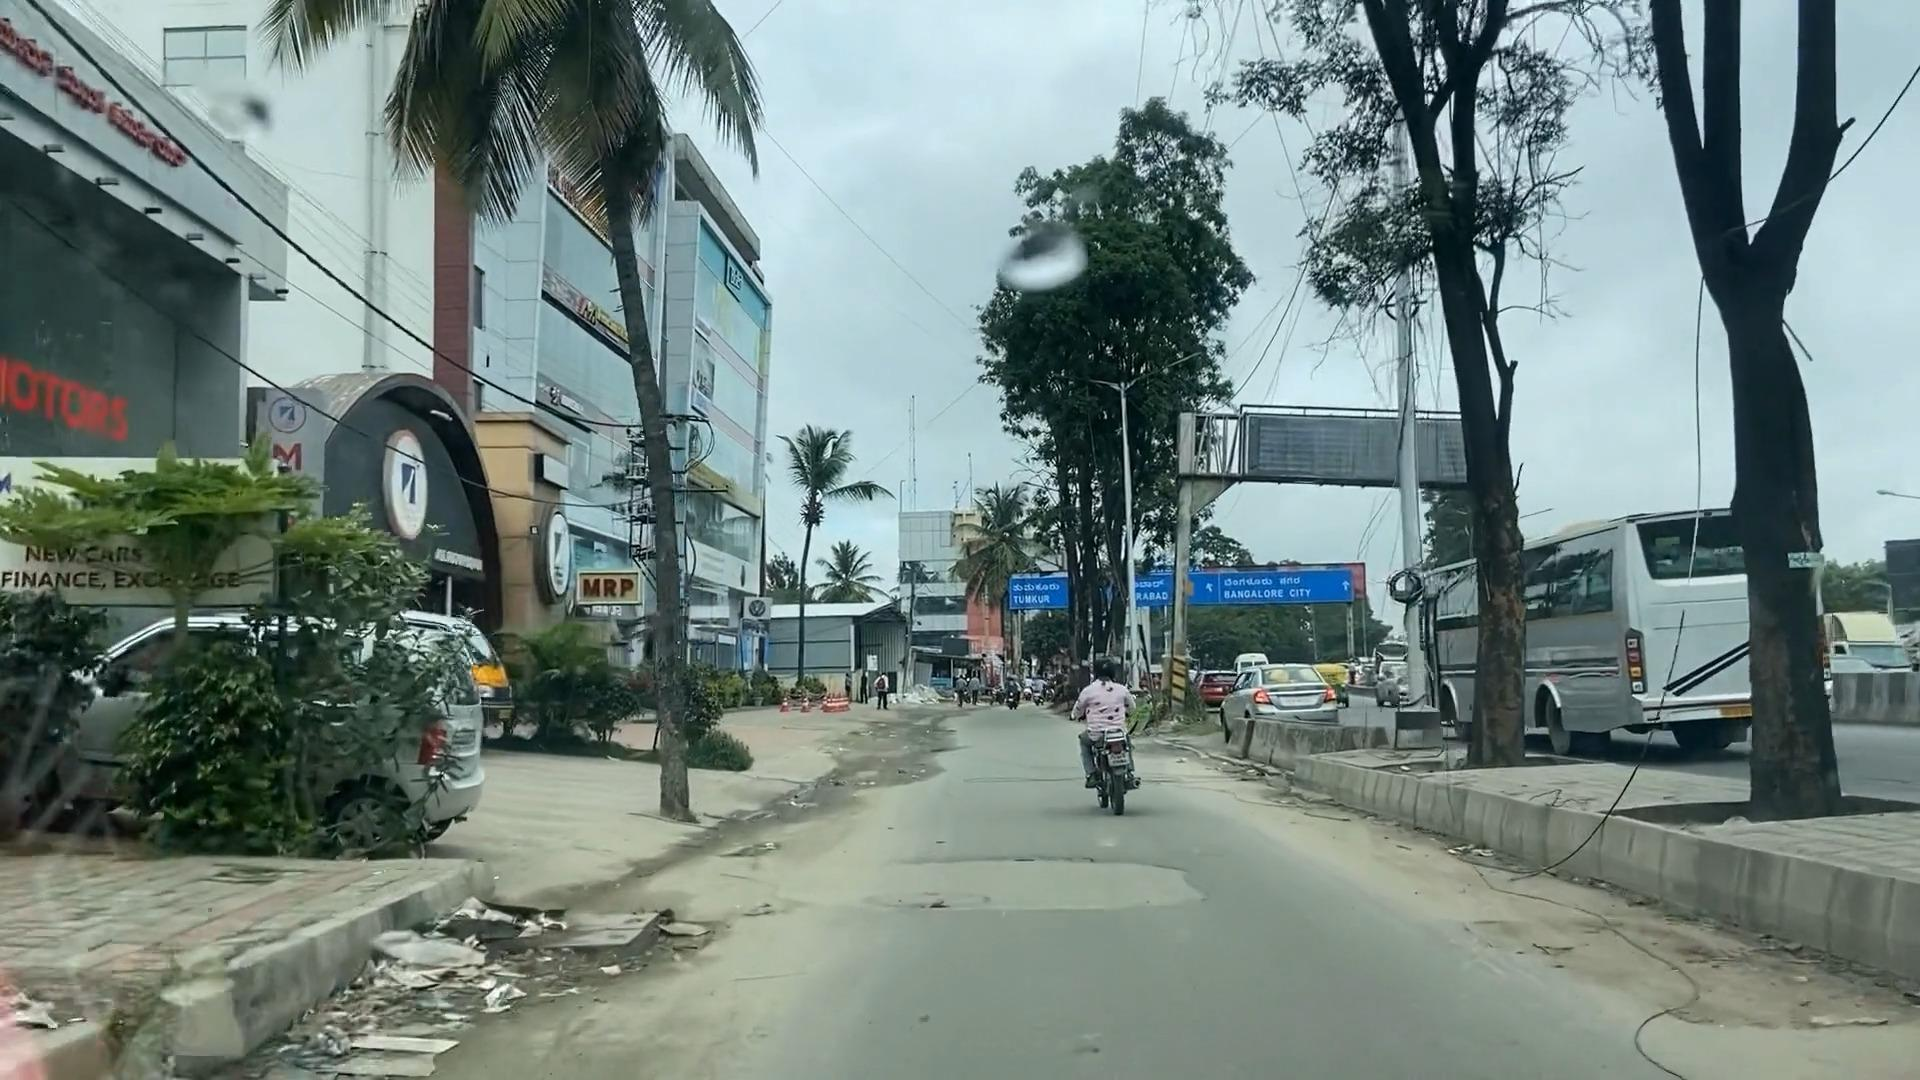LMV: (1073, 657, 1142, 815)
RoadDamages: (510, 873, 782, 1004), (864, 844, 1226, 942)
